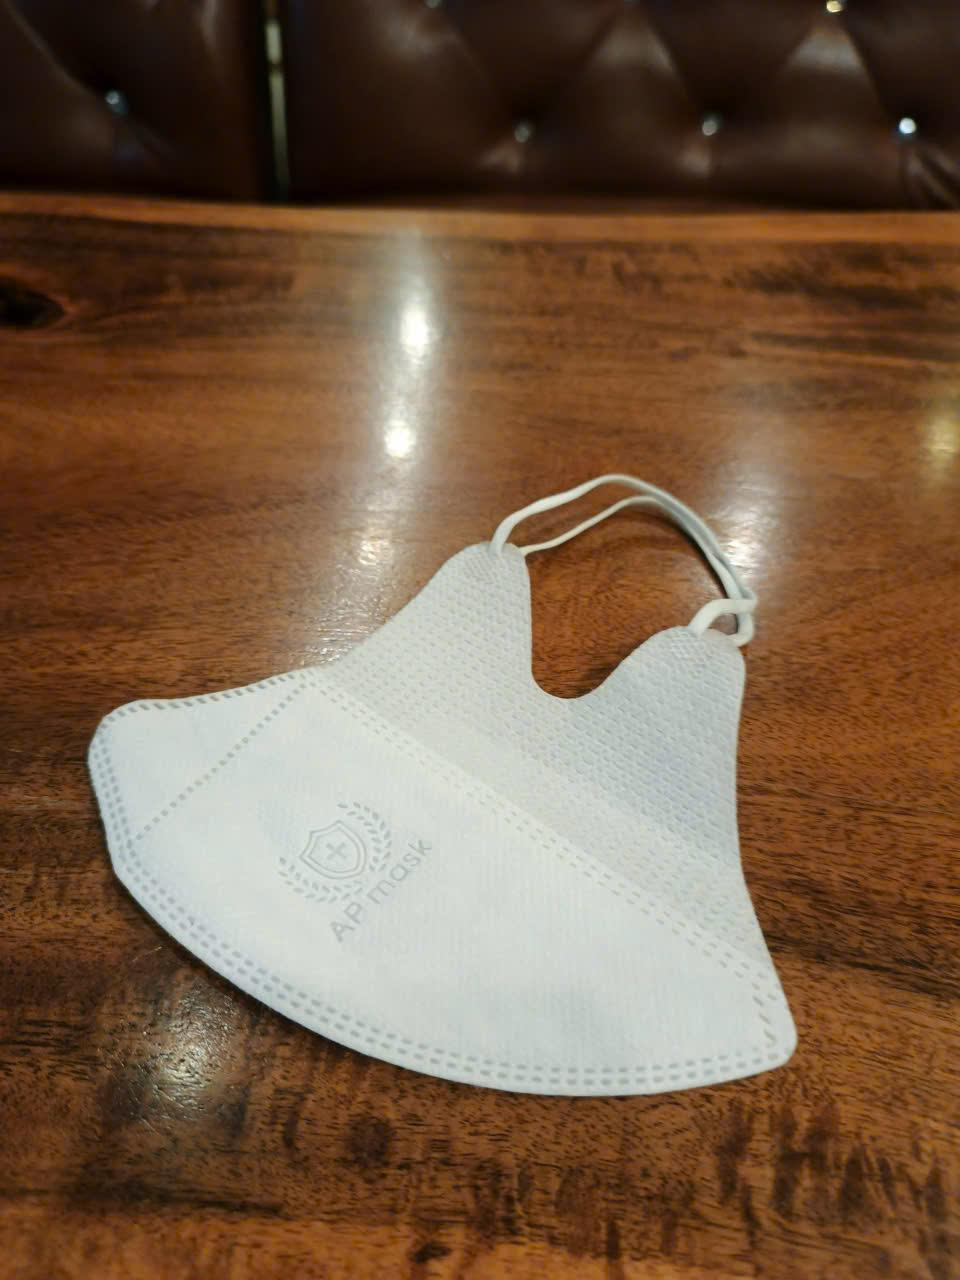Con lai: (90, 473, 798, 1095)
